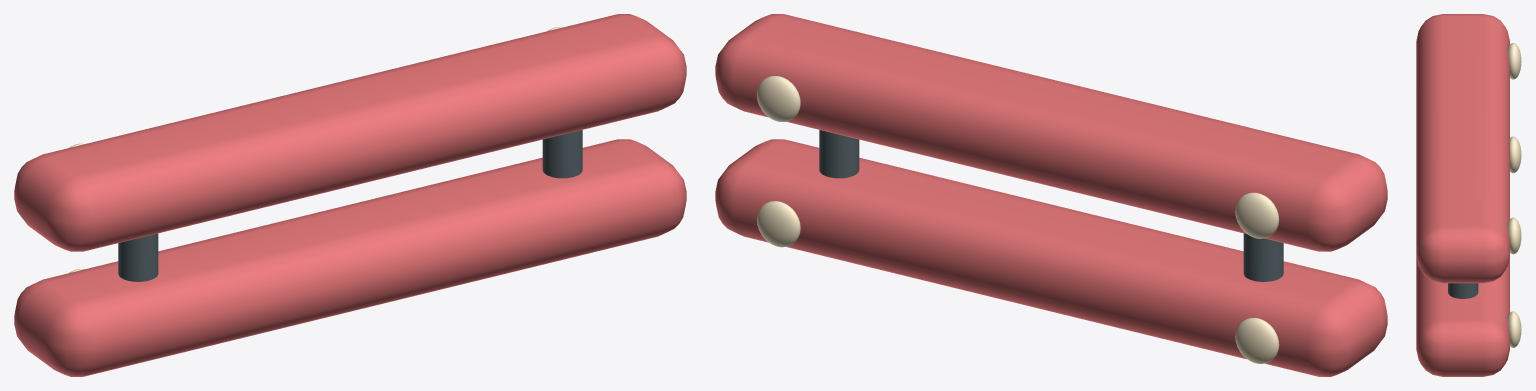
The model's file is tatu_bumper_double.glb.
3 renders of one model, left to right at view 1: azimuth 30°, elevation 25°; view 2: azimuth 150°, elevation 25°; view 3: azimuth 270°, elevation 25°, orthographic. The views are drawn at different scales.
Visible parts, largest first — view 1: Bumper; view 2: Bumper; view 3: Bumper.
Part boxes in pixels (box(x1,y1,x2,y2)): Bumper: box(14, 14, 686, 376); Bumper: box(715, 14, 1387, 376); Bumper: box(1416, 14, 1521, 376).
Size of the model in its own units: 1.65 by 0.49 by 0.315.
